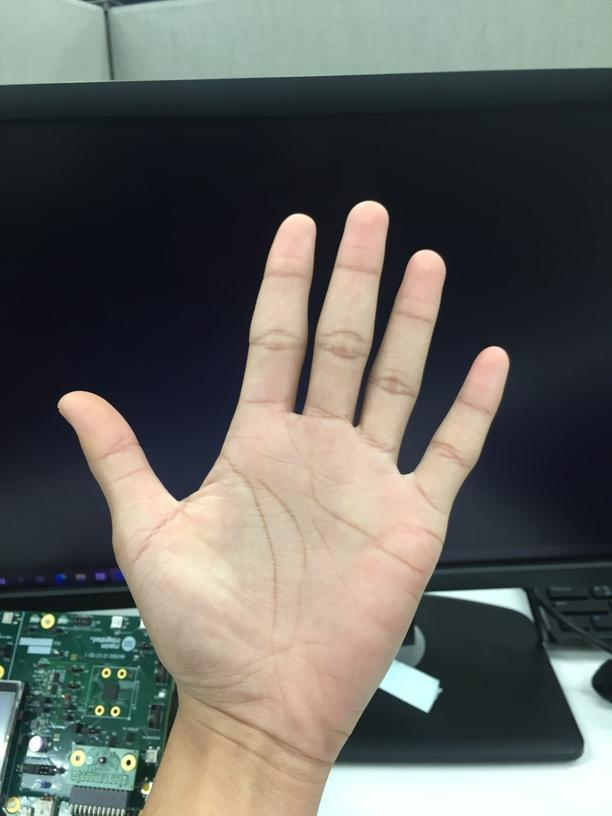hand: (54, 197, 510, 742)
